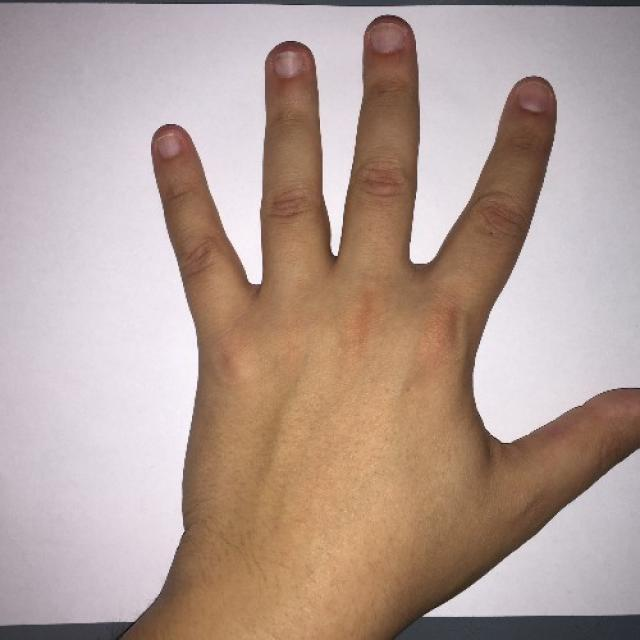paper: (148, 12, 640, 520)
